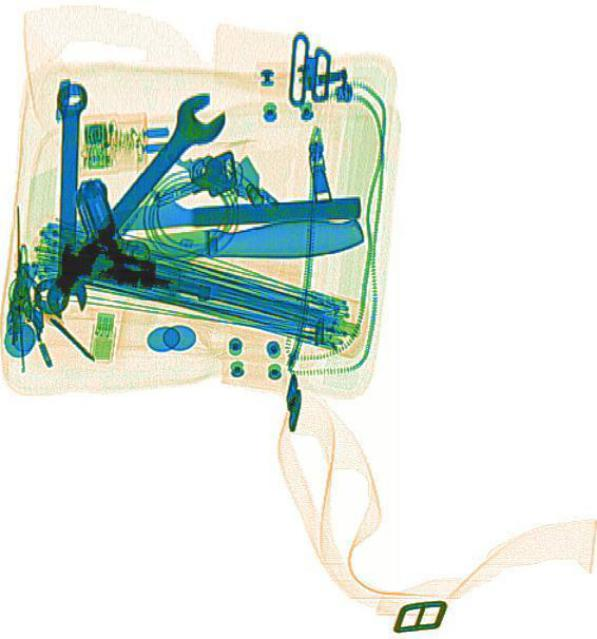Gun: (61, 172, 225, 301)
Knife: (80, 208, 363, 277), (47, 184, 360, 236)
Wrench: (19, 80, 237, 323), (44, 81, 91, 312)
